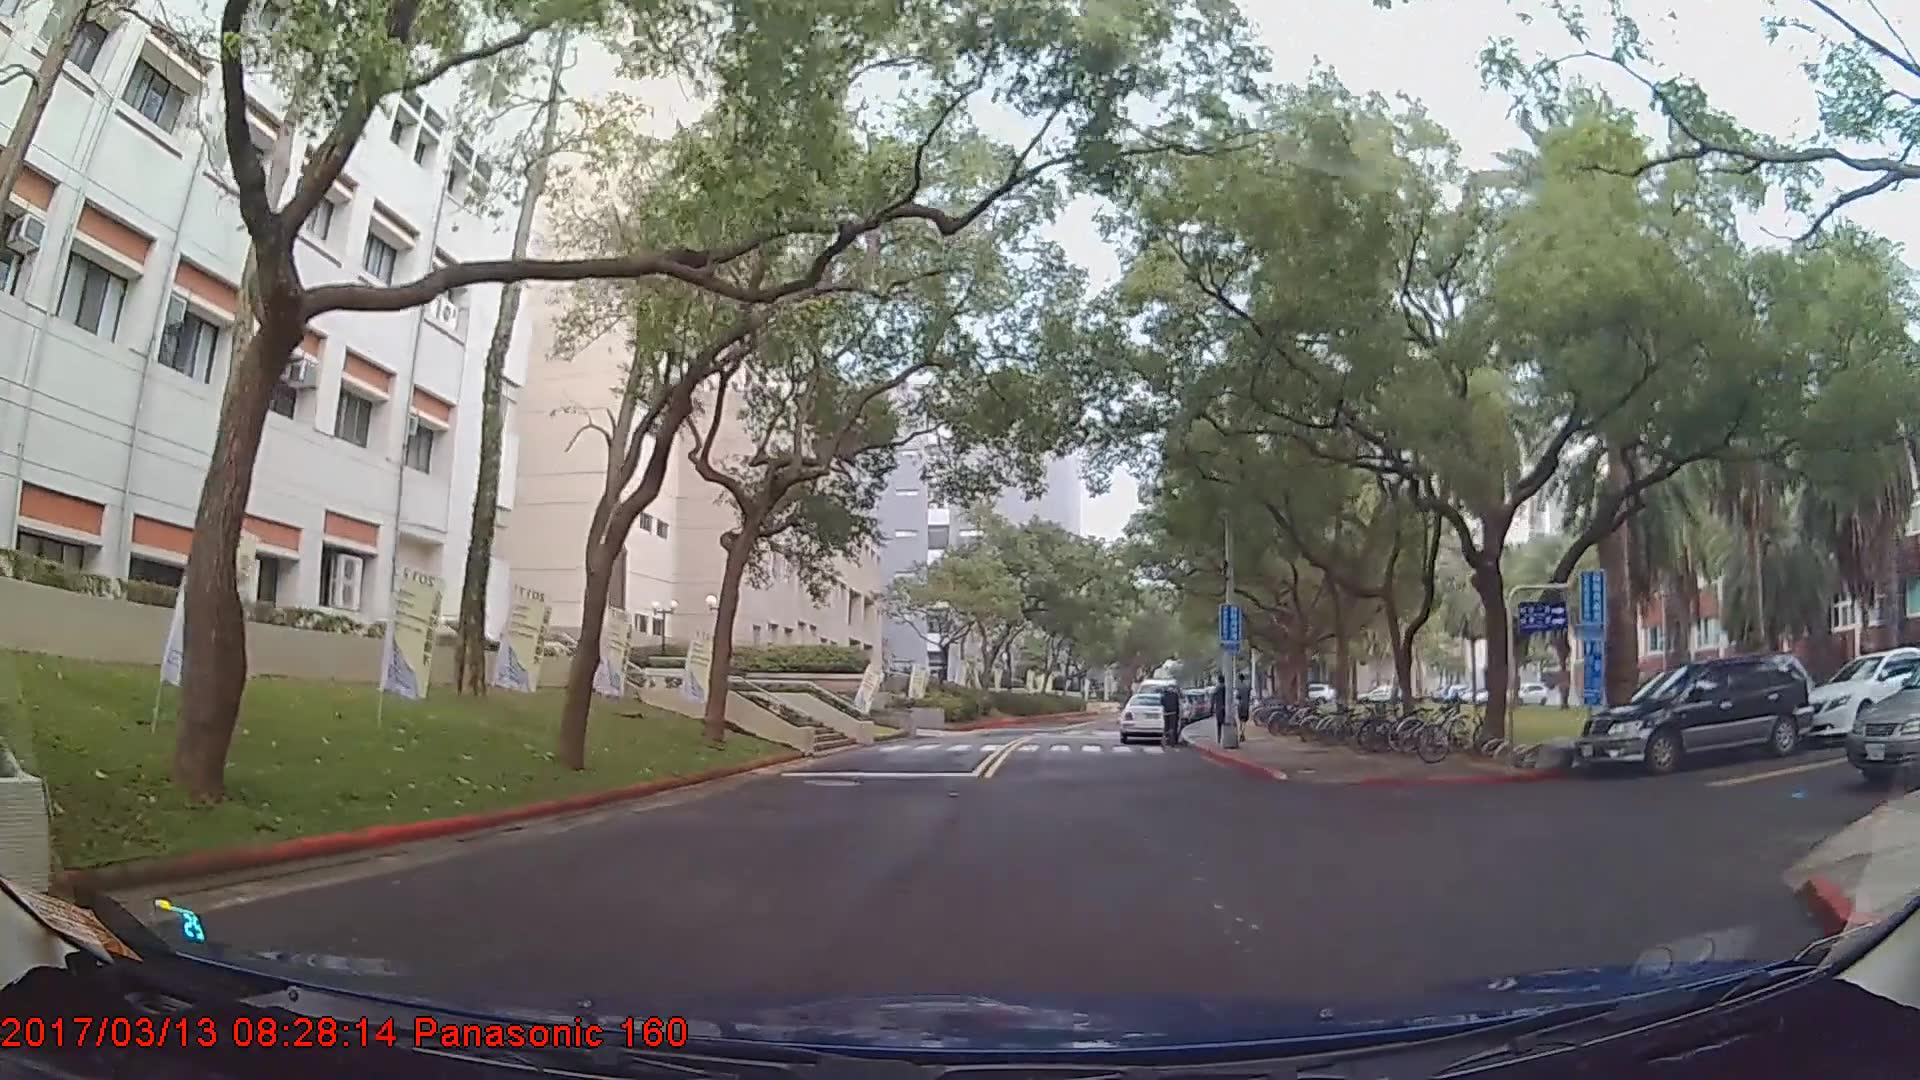pedestrian: (1210, 676, 1235, 745), (1159, 679, 1180, 750)
vehicle: (1577, 650, 1814, 777), (1802, 646, 1919, 741), (1844, 652, 1920, 786), (1116, 690, 1179, 741)
